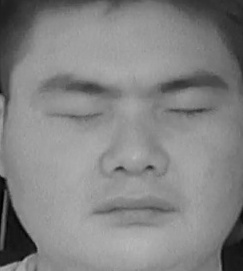blink: (49, 100, 106, 134), (165, 94, 215, 128)
mouth: (88, 189, 179, 234)
